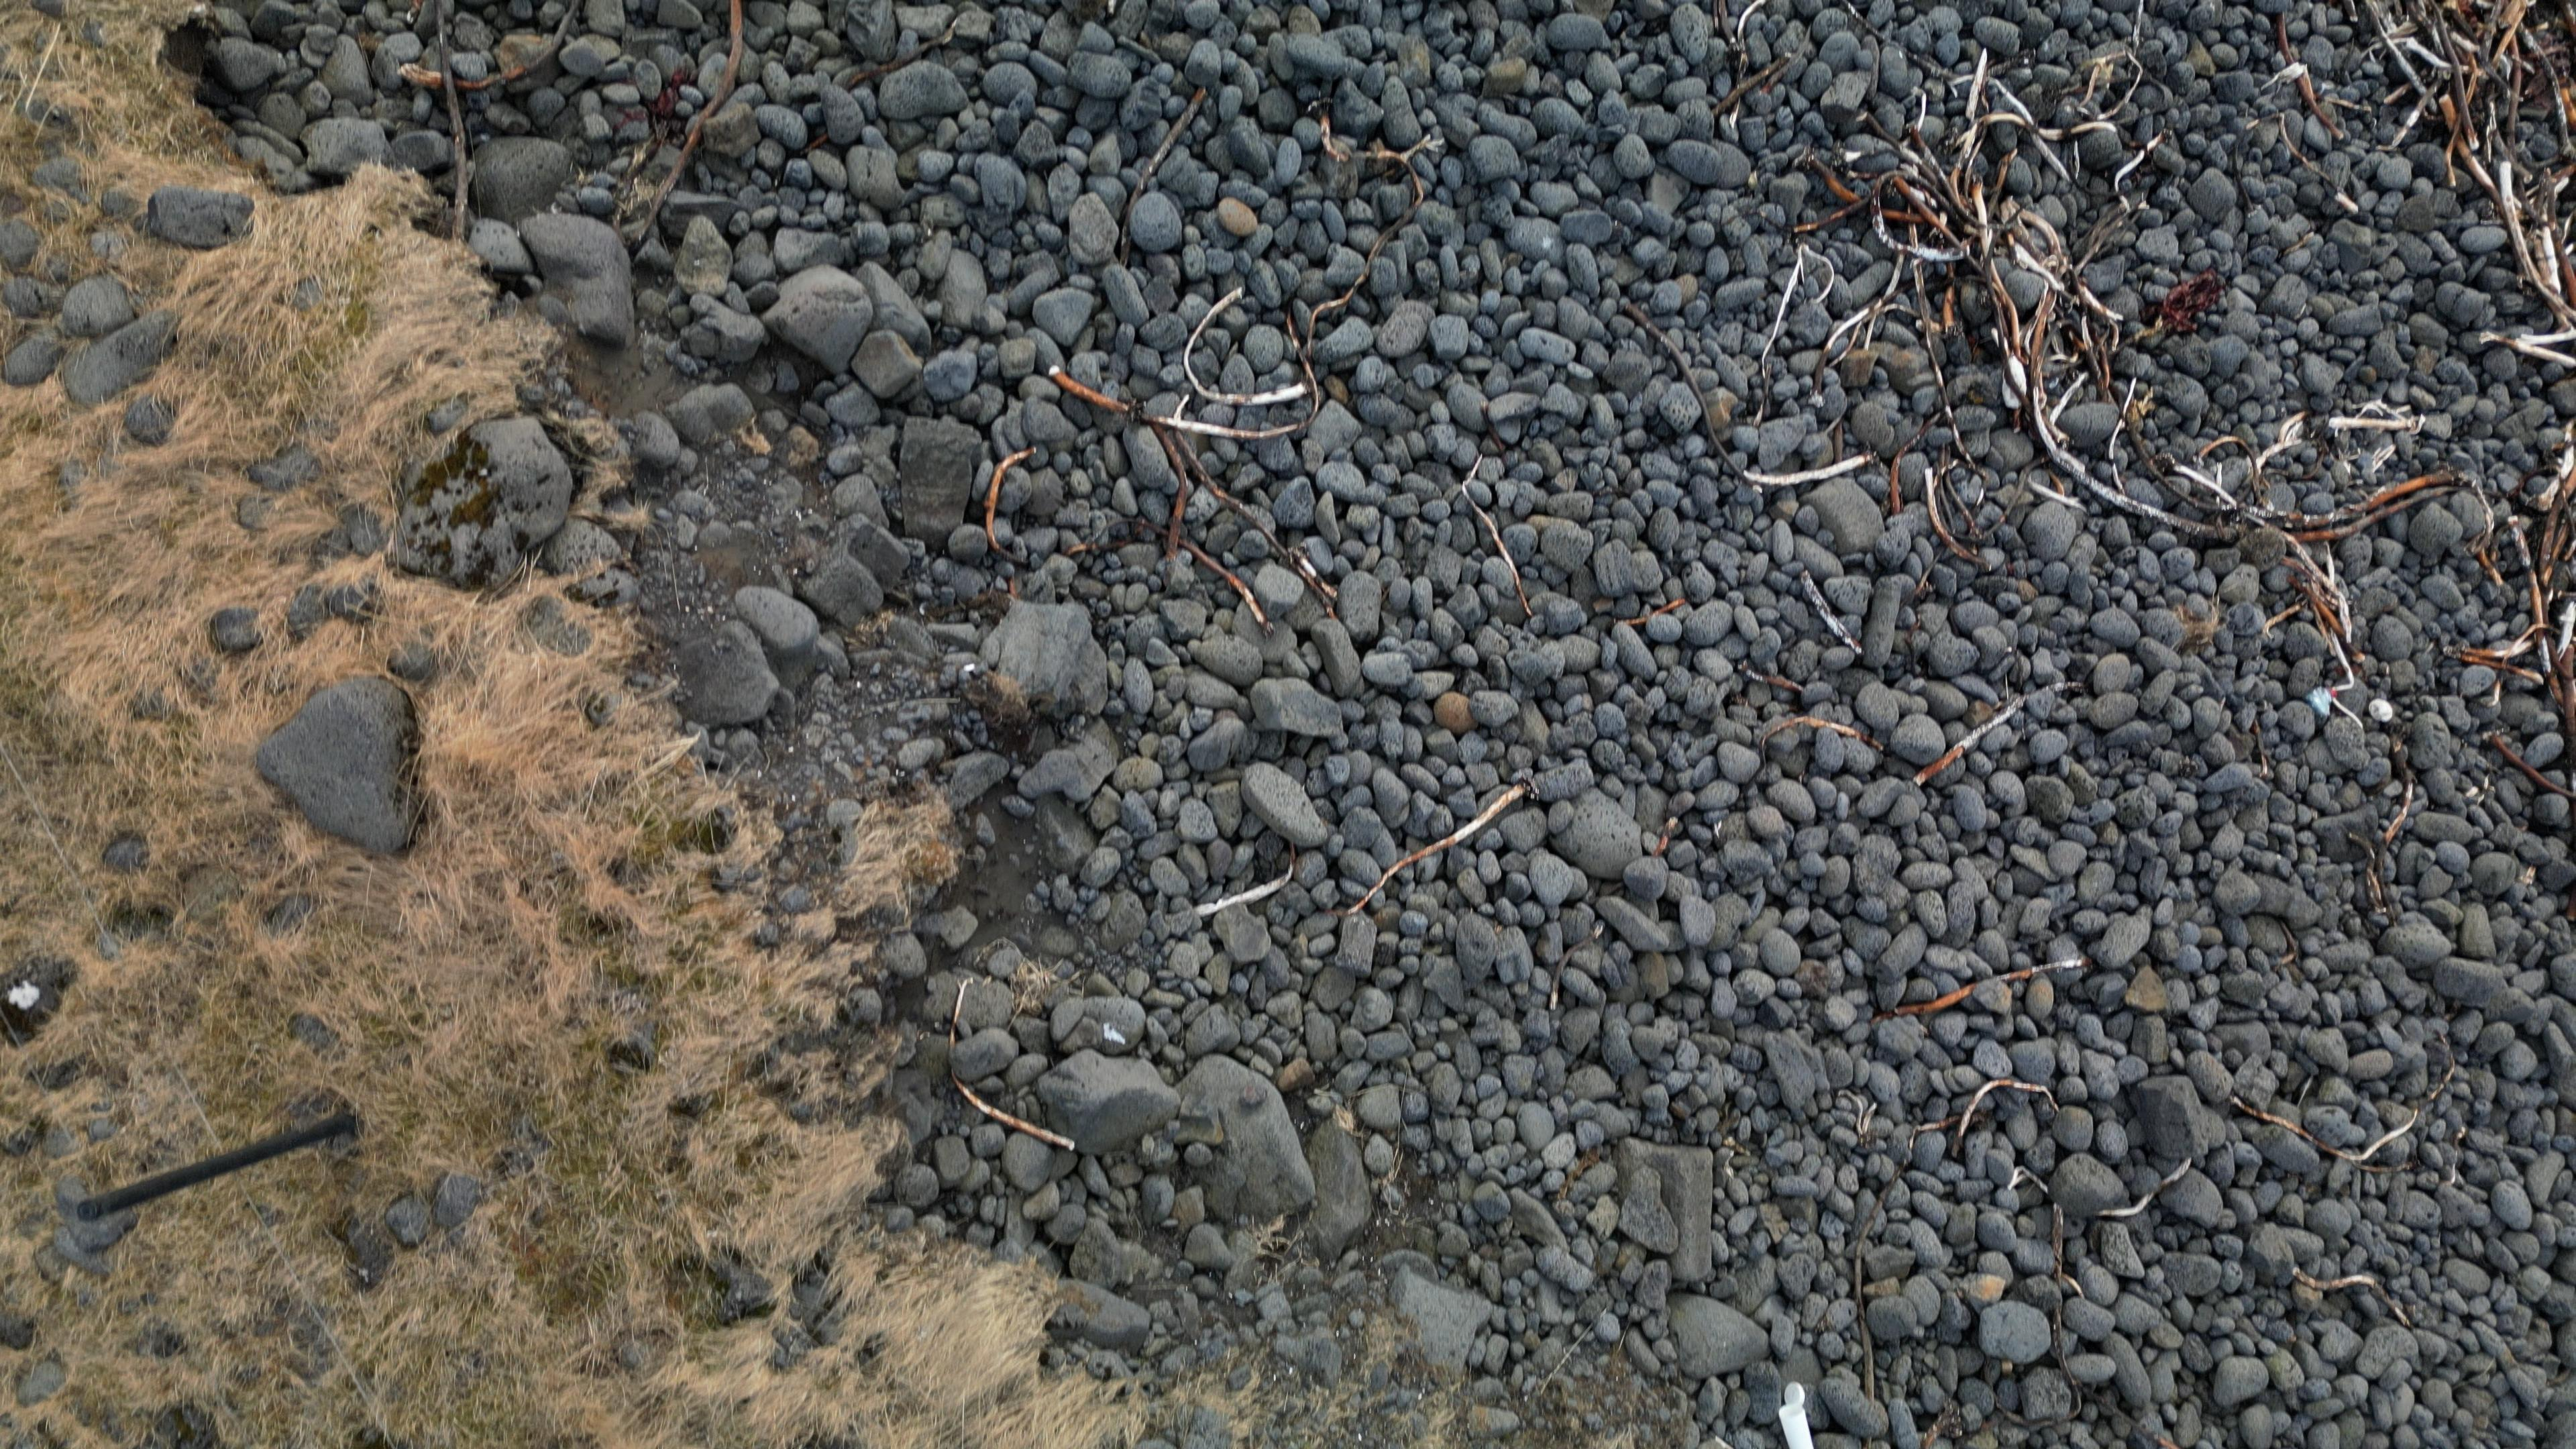trash: (1776, 1383, 1811, 1449)
